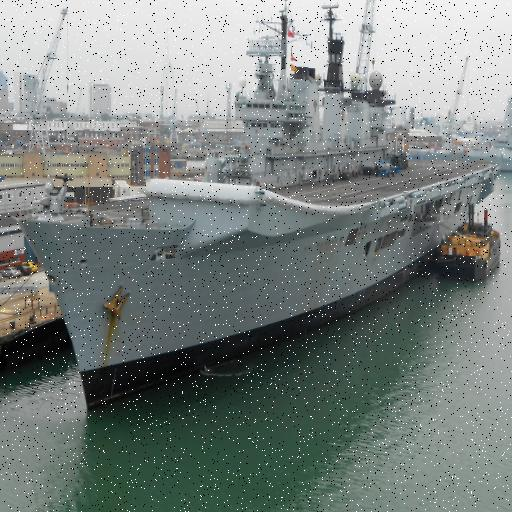Portanaves: (19, 1, 503, 428)
